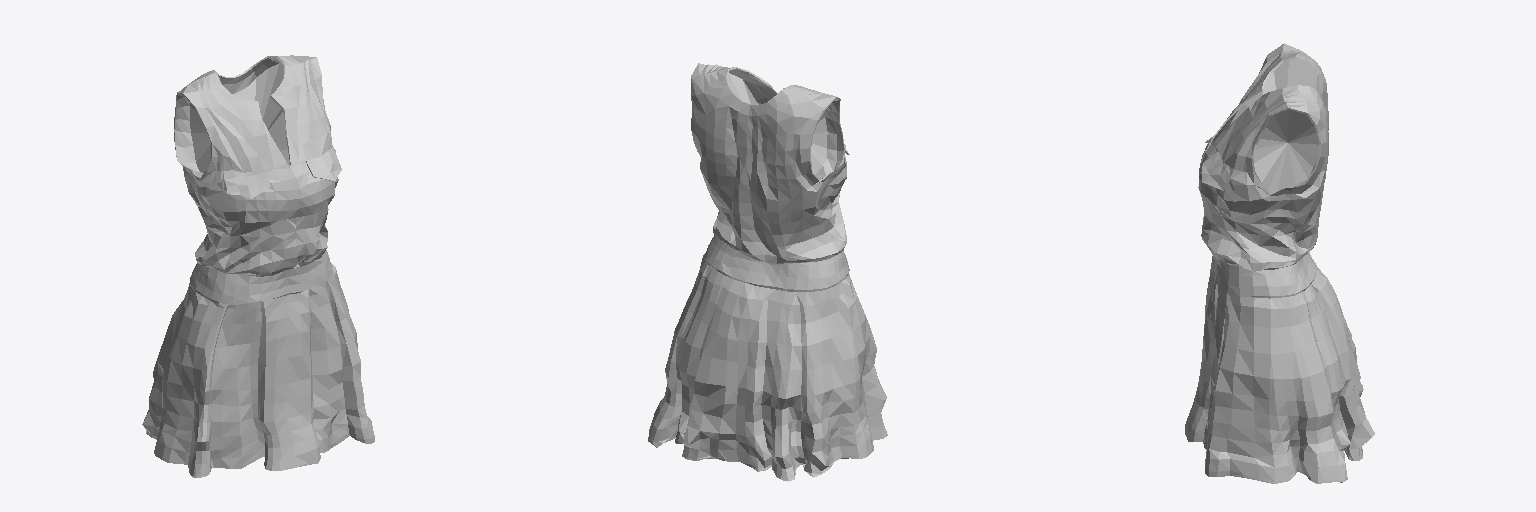
Rendered from dress.obj.
3 renders of one model, left to right at view 1: azimuth 30°, elevation 25°; view 2: azimuth 150°, elevation 25°; view 3: azimuth 270°, elevation 25°, orthographic.
Parts seen in each view (by area): view 1: Dress_Topsmesh; view 2: Dress_Topsmesh; view 3: Dress_Topsmesh.
Part boxes in pixels (x1,y1,x2,y2): Dress_Topsmesh: (142,55,374,477); Dress_Topsmesh: (648,63,887,481); Dress_Topsmesh: (1185,43,1374,483).
Bounding box in the file's own units: 95.23 × 169 × 78.59.